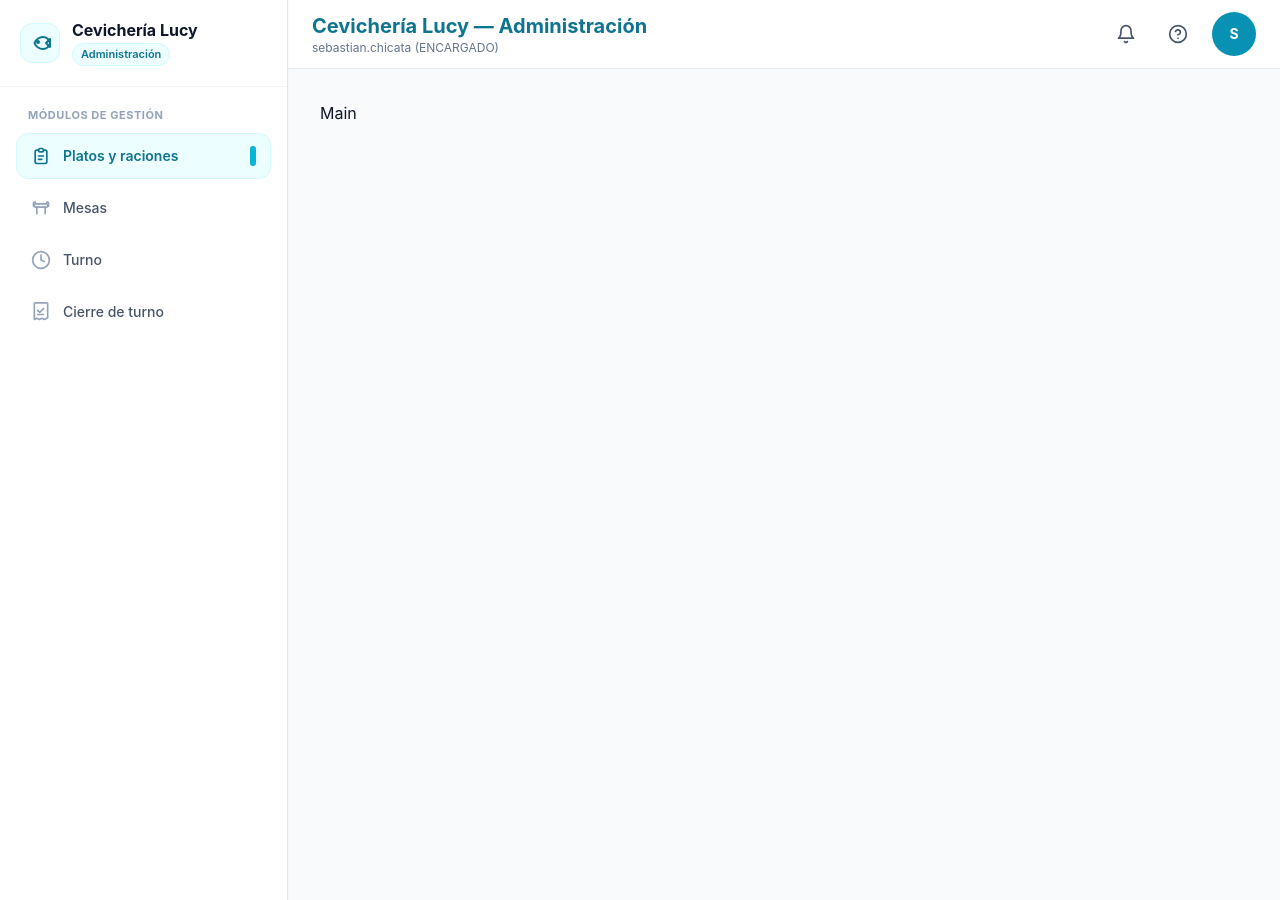
Test: AdminLayout Component › opens user menu dropdown on avatar click and renders all requested options
The image size is (1280, 900).
# Click avatar button to toggle dropdown
What coordinates should you click on to do the following:
click the button named "Menú de usuario"
I would click on:
 (1234, 34)
Its box is [1212, 12, 1256, 56].
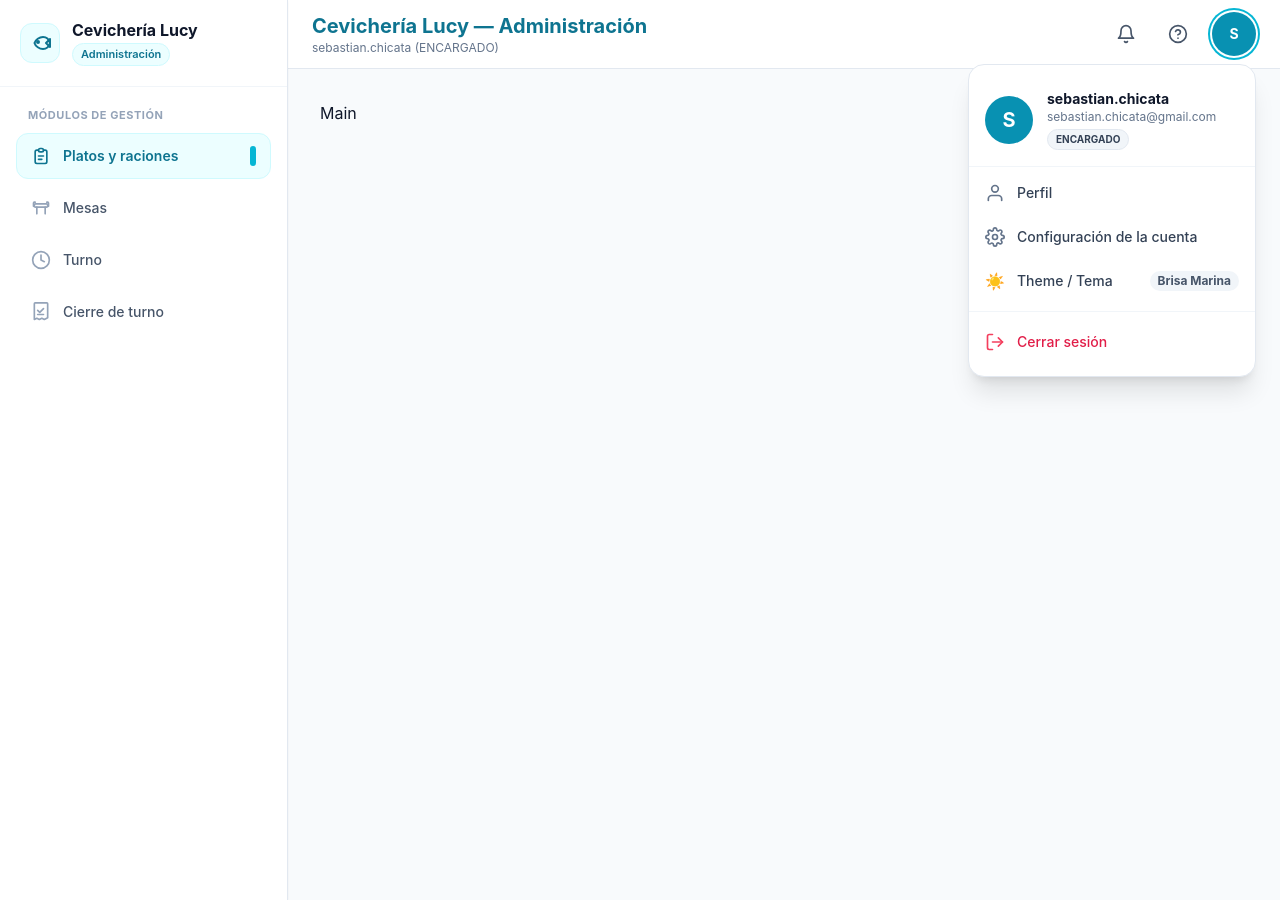
Expected: the menu is shown, [968, 64, 1256, 377]
Expected: the text "sebastian.chicata@gmail.com" is shown, [1047, 109, 1239, 125]
Expected: the menu item "Perfil" is shown, [969, 171, 1255, 215]
# Click "Cerrar sesión"
What coordinates should you click on to do the following:
click the menu item "Cerrar sesión"
I would click on:
 (1062, 342)
Its box is [969, 320, 1255, 364].
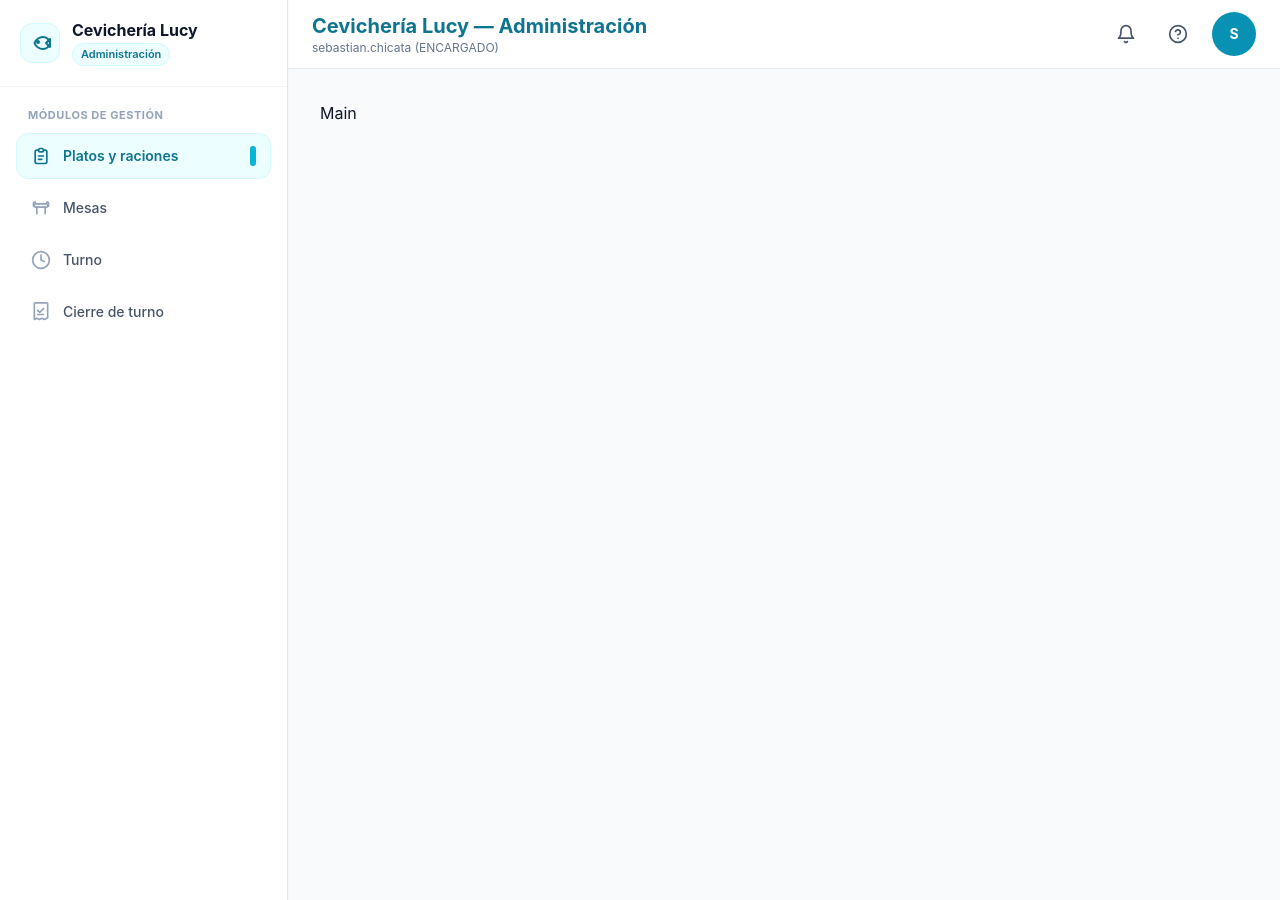
Expected: the menu is gone
